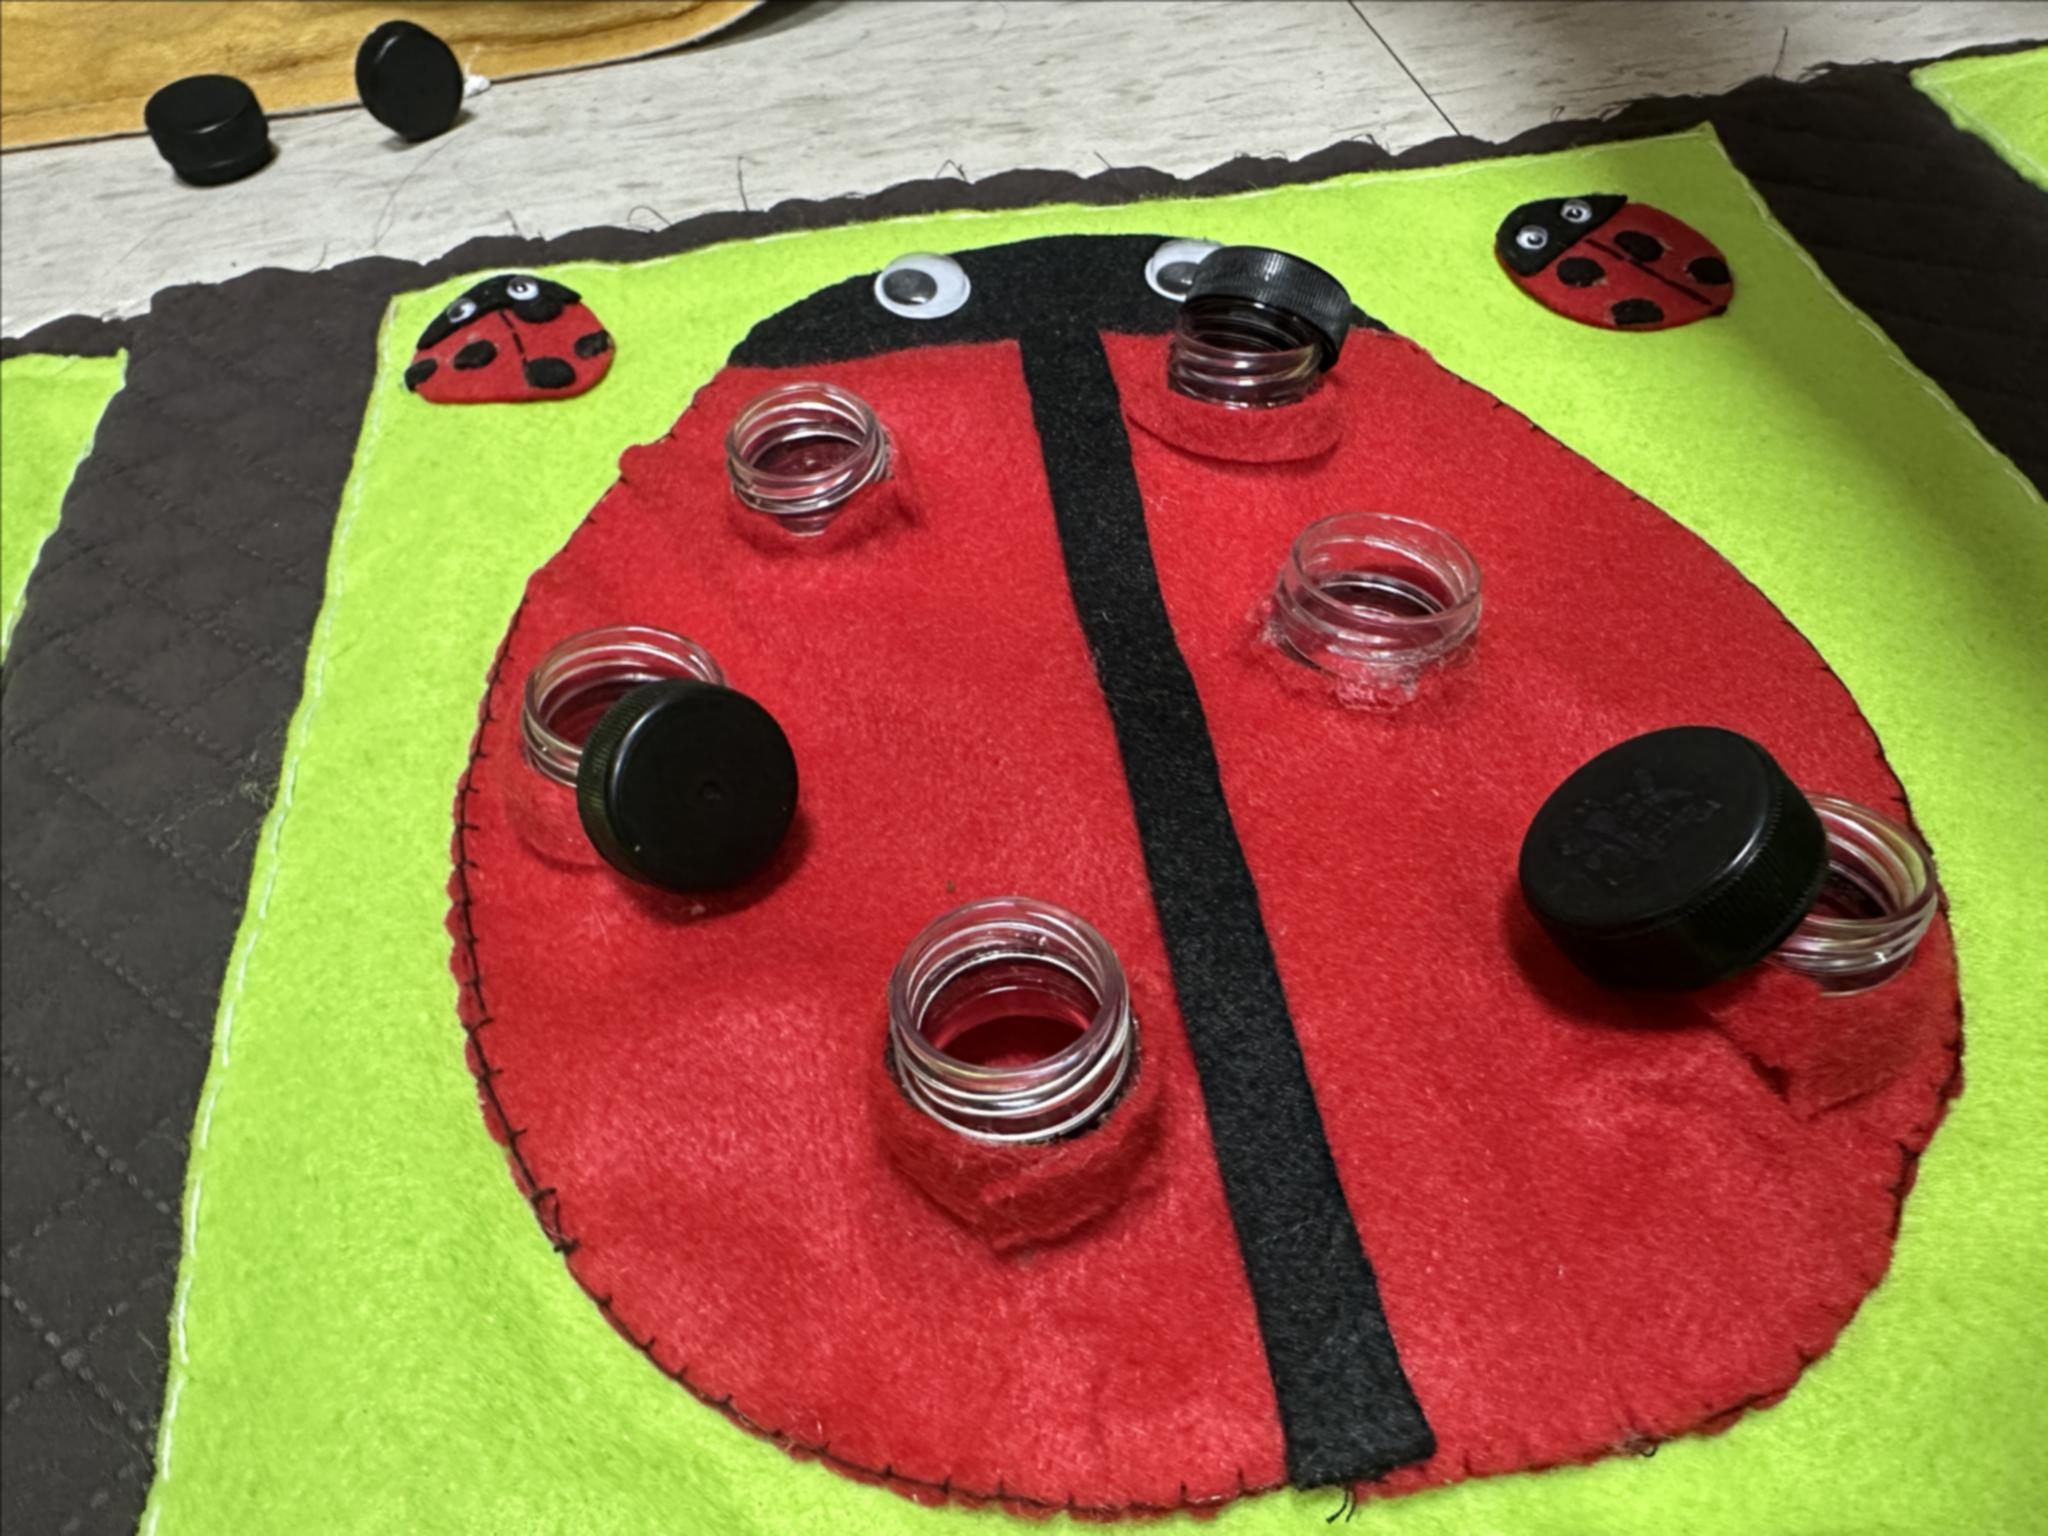cap_ng: (1508, 692, 1943, 1063), (521, 620, 816, 899), (1135, 240, 1372, 468)
